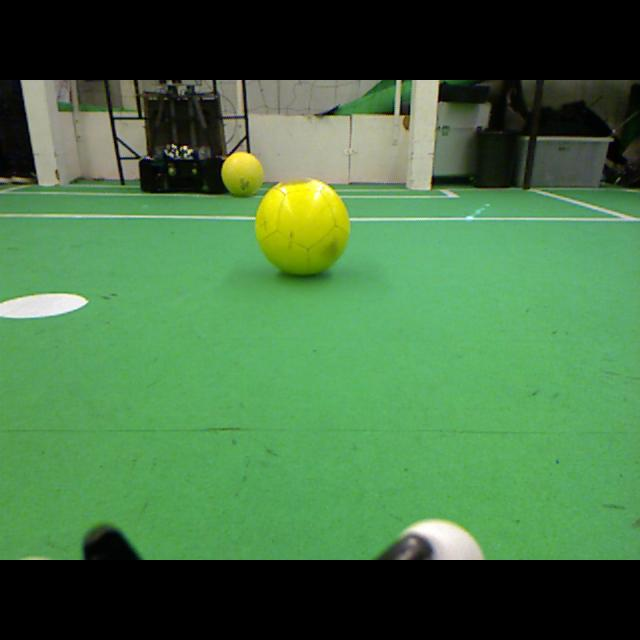ball: (254, 177, 351, 274), (222, 152, 264, 197)
goal: (20, 80, 59, 185), (411, 80, 440, 190)
robot: (139, 80, 231, 194)
